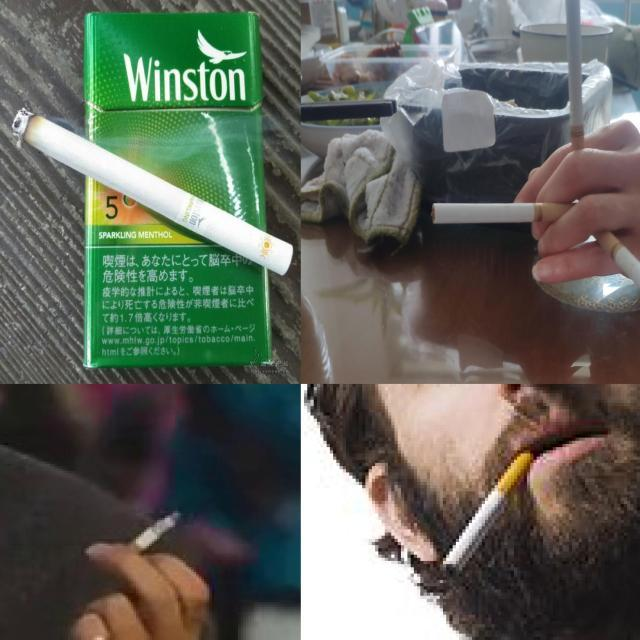smoking: (11, 107, 295, 276), (440, 444, 530, 580), (592, 223, 640, 335), (564, 0, 590, 199), (432, 200, 588, 224), (115, 510, 182, 563)
